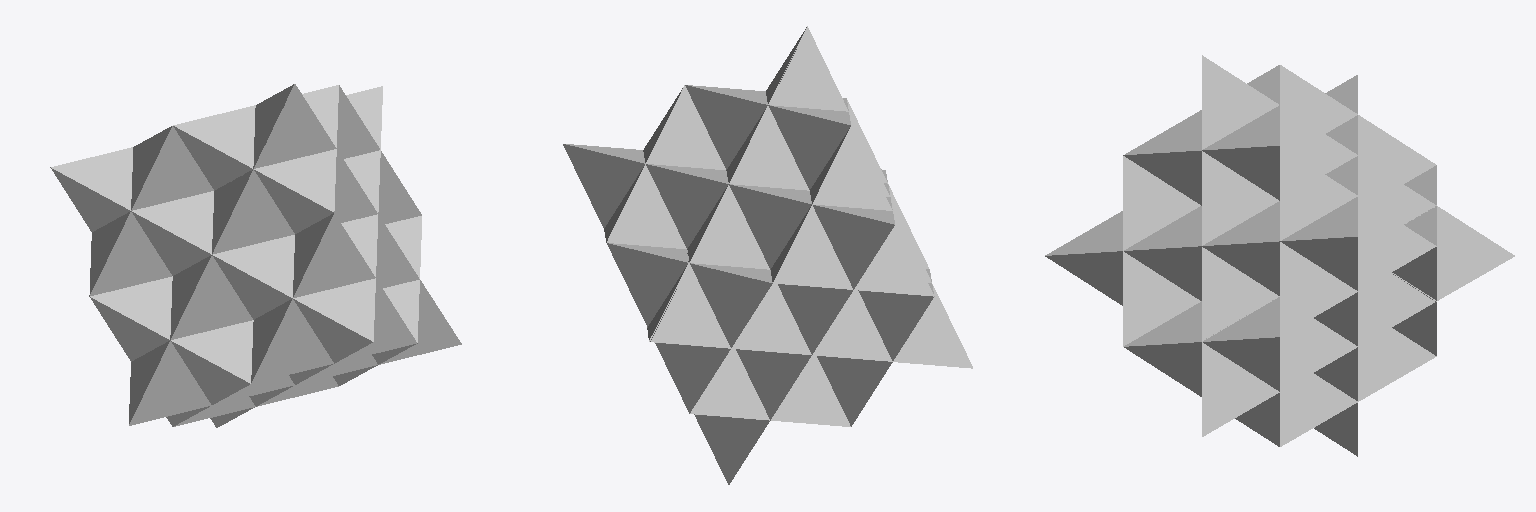
File: tree7.obj
3 views of the same model, side by side, from view 1: azimuth 30°, elevation 25°; view 2: azimuth 150°, elevation 25°; view 3: azimuth 270°, elevation 25° (orthographic).
Parts seen in each view (by area): view 1: THG641_Solid.004, tree1_Solid.052; view 2: THG641_Solid.004, tree1_Solid.052; view 3: THG641_Solid.004, tree1_Solid.052.
Part boxes in pixels (x1,y1,x2,y2): THG641_Solid.004: (50, 84, 461, 427); tree1_Solid.052: (131, 84, 461, 425); THG641_Solid.004: (563, 26, 972, 484); tree1_Solid.052: (647, 27, 972, 368); THG641_Solid.004: (1045, 55, 1514, 456); tree1_Solid.052: (1202, 206, 1514, 436).
Bounding box in the file's own units: 6.94 × 8.01 × 8.5.